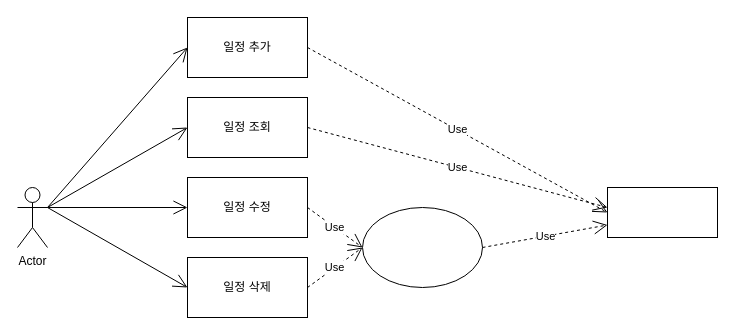
Image size: 735x335. Some labels were removed from this diagram. The shapes that lost their labels are listed below. From the top down, each one's centre as x and y in pixels, then its label:
At [662,212]: "DB".
At [422,247]: "비밀번호 확인".
